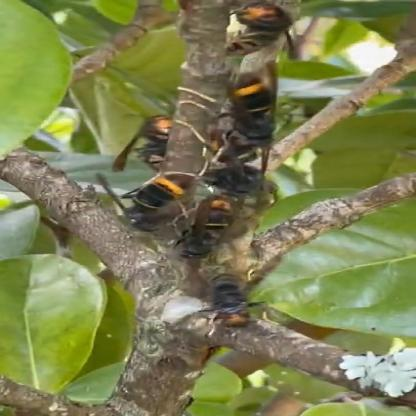bee: (229, 52, 295, 168), (212, 5, 314, 64), (123, 156, 197, 231), (197, 258, 268, 335), (206, 172, 278, 244), (130, 95, 187, 170), (168, 217, 227, 270)
